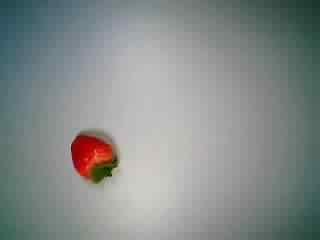strawberry: (62, 128, 128, 190)
